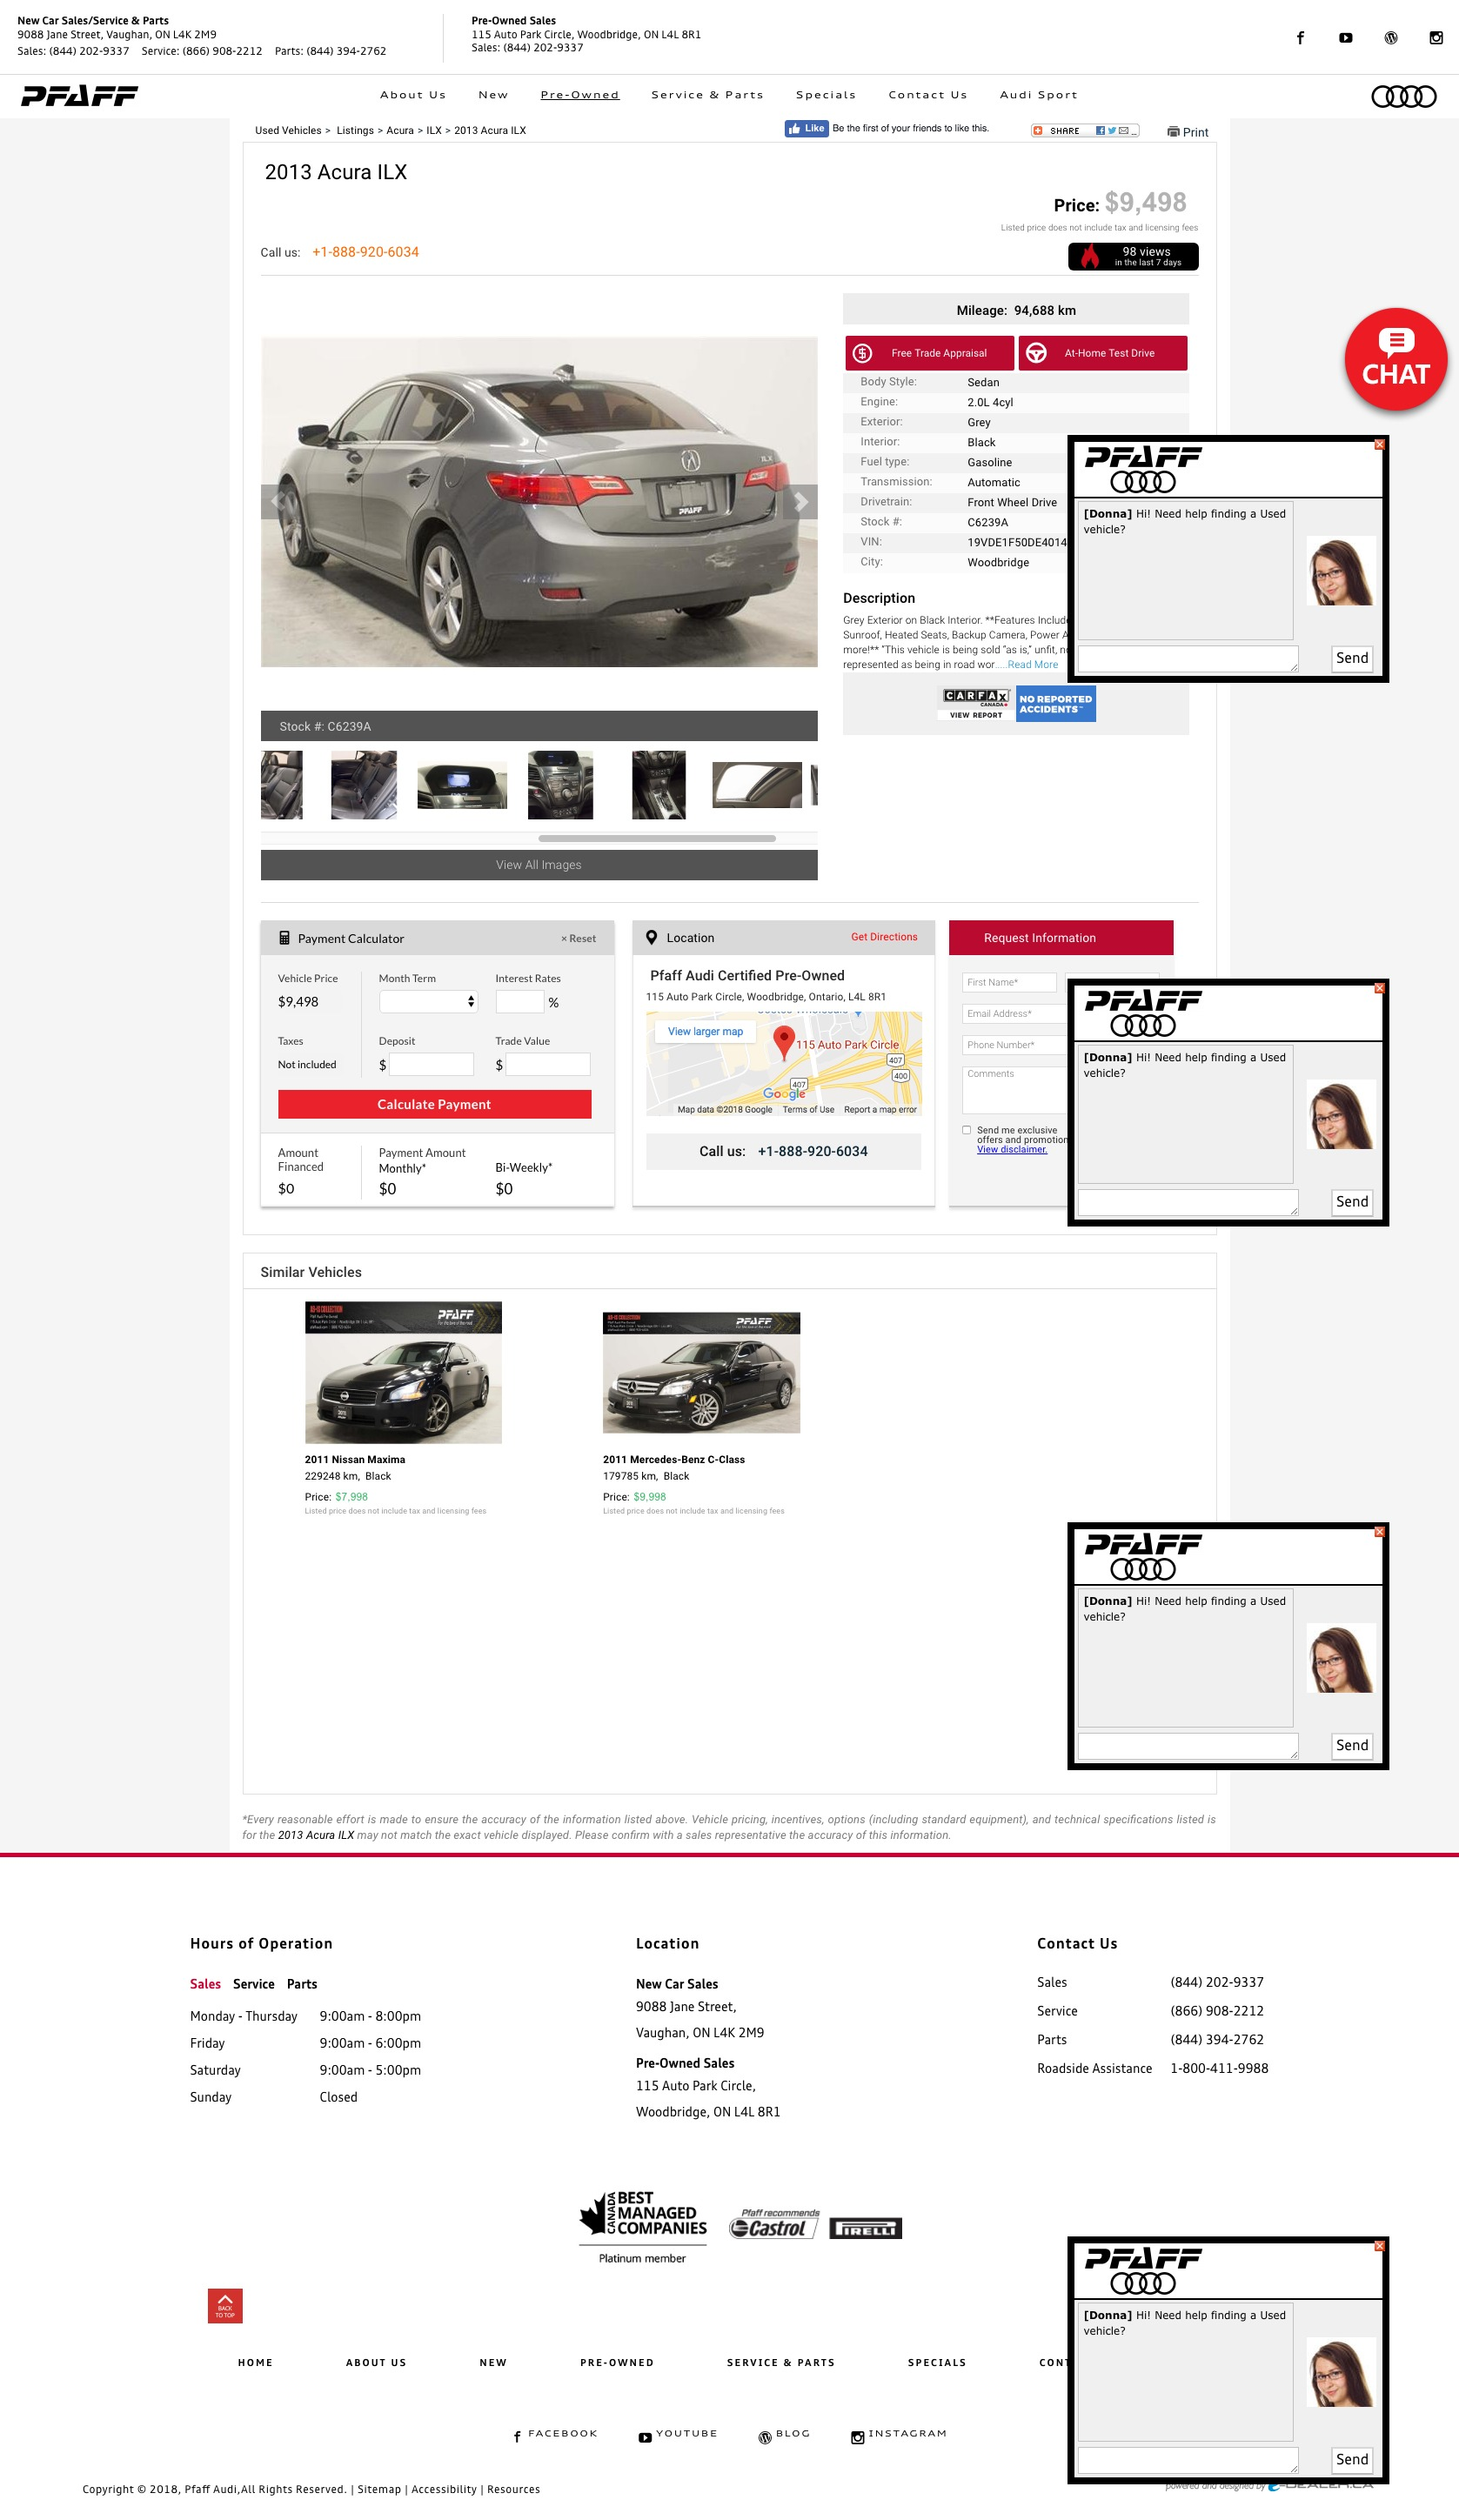car: (794, 491, 811, 514)
